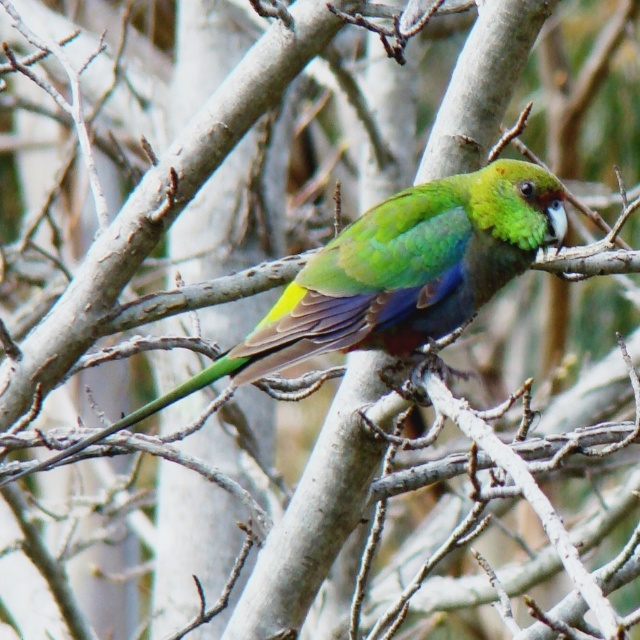Parrot: (0, 156, 572, 491)
